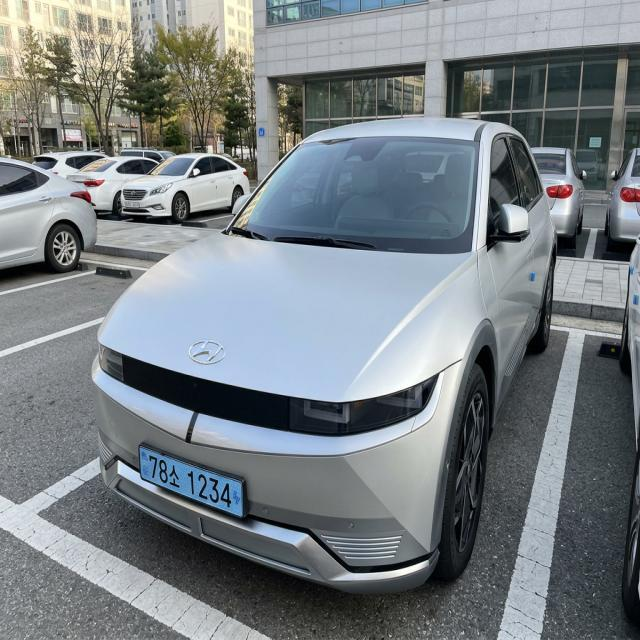car: (135, 437, 255, 530)
carev: (231, 469, 248, 525), (137, 441, 151, 489)
